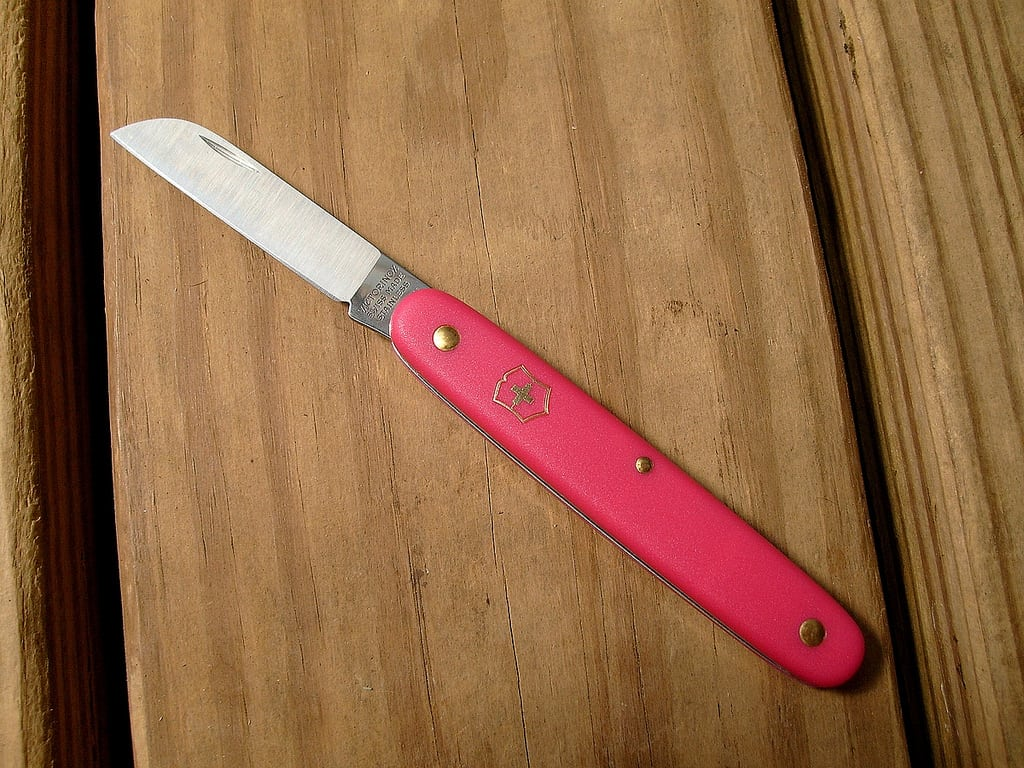knife: (108, 113, 871, 691)
